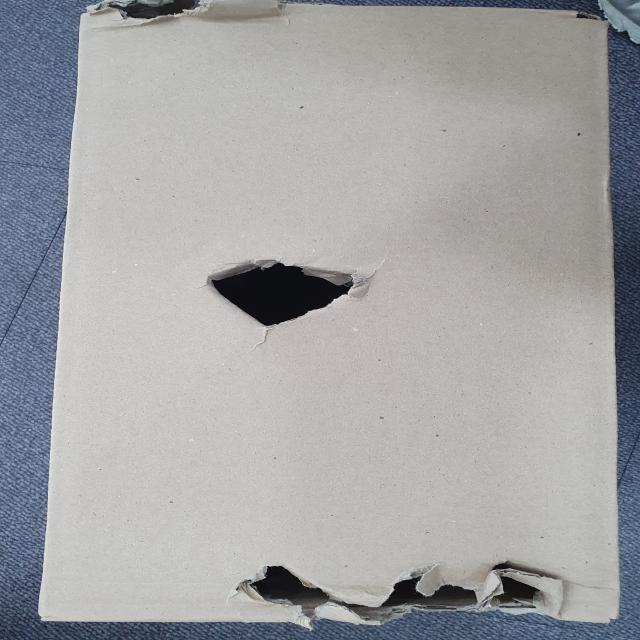hole: (208, 557, 580, 631), (192, 248, 366, 332), (75, 1, 215, 25)
